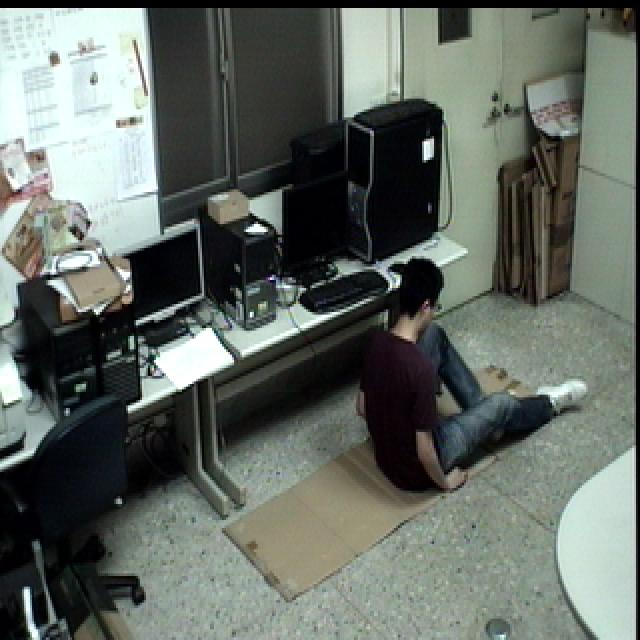sit: (349, 249, 593, 494)
